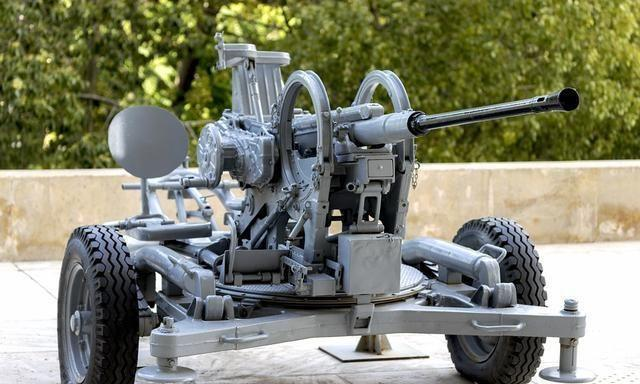MIL_SPG: (58, 35, 594, 382)
